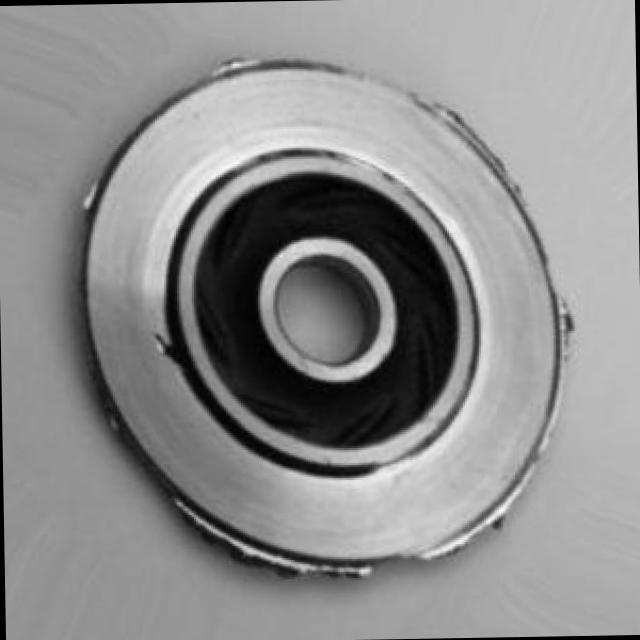Defect: (147, 325, 190, 360)
